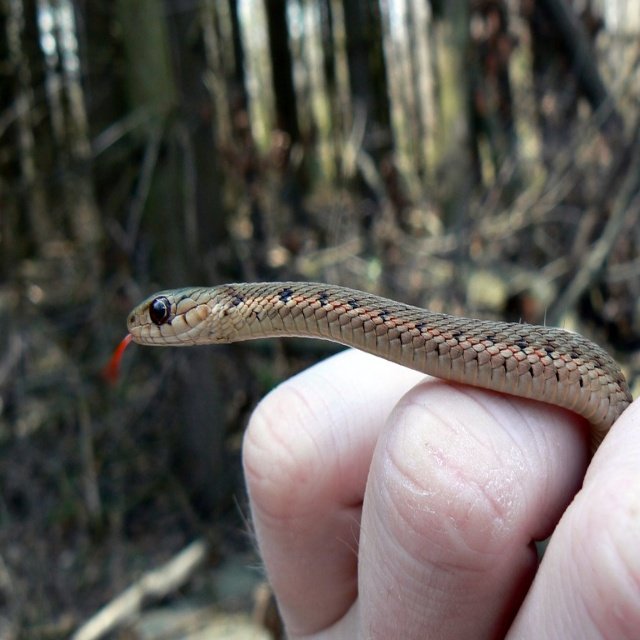Snake: (110, 261, 630, 476)
